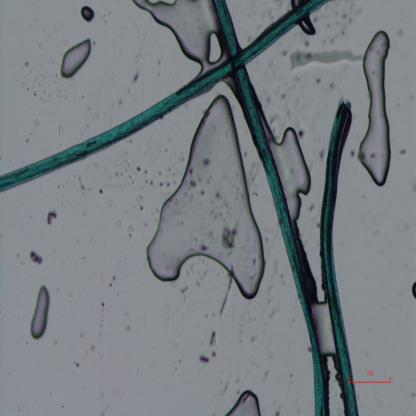Air bubble: (148, 91, 268, 304), (127, 0, 224, 66), (359, 30, 392, 188), (277, 115, 315, 208), (30, 284, 52, 342), (60, 41, 91, 79), (224, 388, 261, 414), (299, 18, 318, 38), (80, 5, 96, 23), (410, 280, 416, 299), (290, 0, 302, 8)
Background material: (288, 45, 364, 72), (328, 0, 355, 35), (220, 271, 236, 313), (220, 219, 238, 253), (271, 84, 286, 102), (28, 250, 44, 266), (45, 208, 59, 226), (270, 259, 280, 283), (76, 175, 89, 193), (219, 379, 233, 395), (324, 72, 336, 90), (262, 366, 274, 383), (210, 202, 221, 220), (208, 330, 218, 349), (134, 193, 145, 210), (186, 262, 199, 276), (176, 284, 193, 294), (393, 24, 405, 38), (188, 178, 200, 191), (169, 197, 181, 210), (313, 72, 323, 87), (269, 305, 279, 320), (198, 354, 211, 365), (57, 119, 66, 134), (194, 275, 203, 288), (197, 241, 208, 251), (71, 359, 82, 369), (132, 70, 140, 83), (271, 406, 281, 416), (400, 145, 410, 155), (371, 226, 380, 237), (202, 156, 211, 167), (210, 348, 218, 360), (198, 186, 206, 198), (126, 224, 134, 235), (298, 127, 306, 138), (316, 150, 326, 158), (214, 188, 221, 199), (124, 157, 131, 168), (267, 348, 273, 360), (280, 272, 286, 284), (199, 337, 205, 349), (82, 119, 90, 128), (409, 390, 416, 400), (32, 75, 38, 86), (98, 186, 106, 194), (32, 118, 40, 126), (148, 179, 156, 187), (98, 408, 106, 416), (124, 324, 131, 333), (304, 38, 310, 48), (117, 96, 123, 106), (178, 152, 184, 162), (112, 273, 119, 281), (265, 298, 272, 306), (158, 166, 165, 174), (156, 180, 163, 188), (128, 174, 134, 183), (251, 335, 257, 344), (83, 208, 88, 218), (164, 180, 171, 187), (53, 339, 60, 346), (210, 310, 216, 318), (20, 258, 26, 266), (350, 148, 356, 156), (16, 250, 21, 259), (310, 202, 315, 211), (116, 220, 122, 227), (23, 62, 30, 68), (55, 285, 60, 293), (136, 165, 142, 171), (238, 338, 244, 344), (32, 90, 38, 96), (39, 43, 44, 50), (282, 50, 287, 57), (90, 345, 96, 350), (102, 301, 107, 307), (81, 94, 86, 100), (158, 58, 162, 65), (204, 311, 208, 318), (105, 402, 109, 409), (108, 282, 113, 287), (218, 254, 224, 258), (114, 387, 118, 393), (96, 114, 100, 120), (92, 40, 96, 46), (115, 170, 118, 178), (140, 207, 145, 211), (144, 169, 148, 174), (164, 386, 168, 391), (129, 139, 133, 144), (101, 392, 104, 398), (100, 15, 103, 21), (26, 86, 30, 90), (120, 172, 124, 176), (107, 11, 111, 15), (26, 138, 30, 142), (40, 95, 43, 100), (109, 201, 111, 207), (44, 88, 46, 94), (104, 21, 108, 24), (39, 82, 41, 86), (56, 74, 58, 77)
Microfibre: (0, 0, 330, 191), (212, 0, 328, 414), (318, 98, 361, 416)
